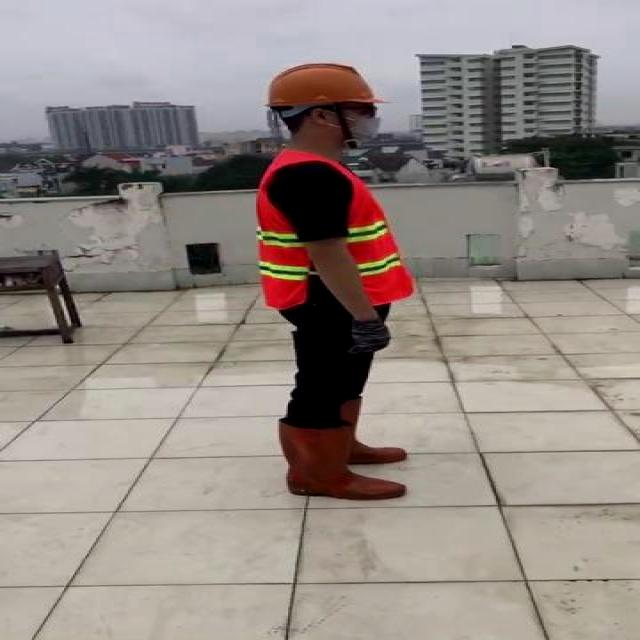boots: (277, 415, 411, 501), (331, 393, 407, 464)
face_mask: (328, 100, 390, 146)
hand_glove: (340, 316, 394, 356)
head_helmet: (262, 59, 382, 112)
person: (242, 54, 432, 501)
vest: (254, 146, 414, 310)
